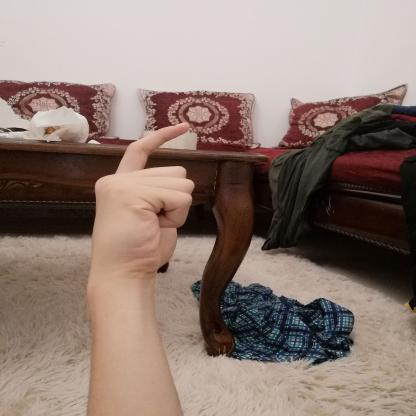RAA: (70, 115, 204, 289)
